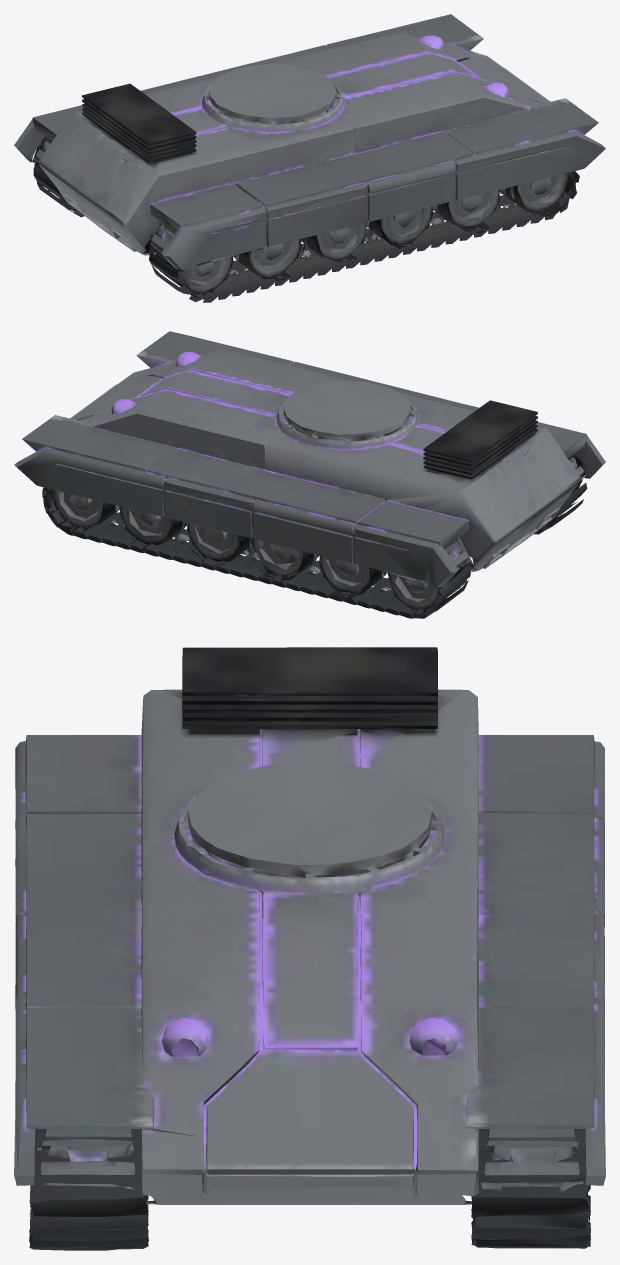
Rendered from chassis-vanguard-1-light.glb.
3 renders of one model, top to bottom at view 1: azimuth 30°, elevation 25°; view 2: azimuth 150°, elevation 25°; view 3: azimuth 270°, elevation 25°, orthographic. The views are drawn at different scales.
Visible parts, largest first — view 1: chassis-vanguard-1-light; view 2: chassis-vanguard-1-light; view 3: chassis-vanguard-1-light.
Part boxes in pixels (bbox=[...]): chassis-vanguard-1-light: bbox=[14, 14, 605, 302]; chassis-vanguard-1-light: bbox=[14, 331, 605, 618]; chassis-vanguard-1-light: bbox=[14, 647, 605, 1250].
Size of the model in its own units: 2.56 by 0.7385 by 1.52.
Materials: 1 (1 with a texture image).
